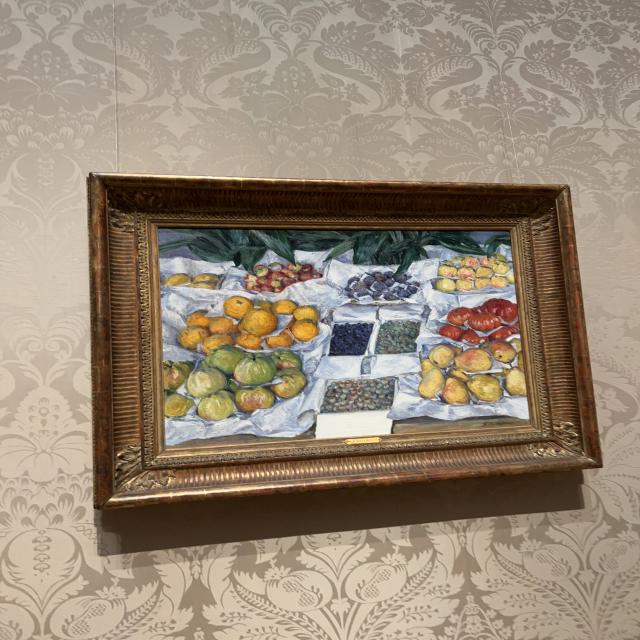fruits: (162, 232, 526, 447)
